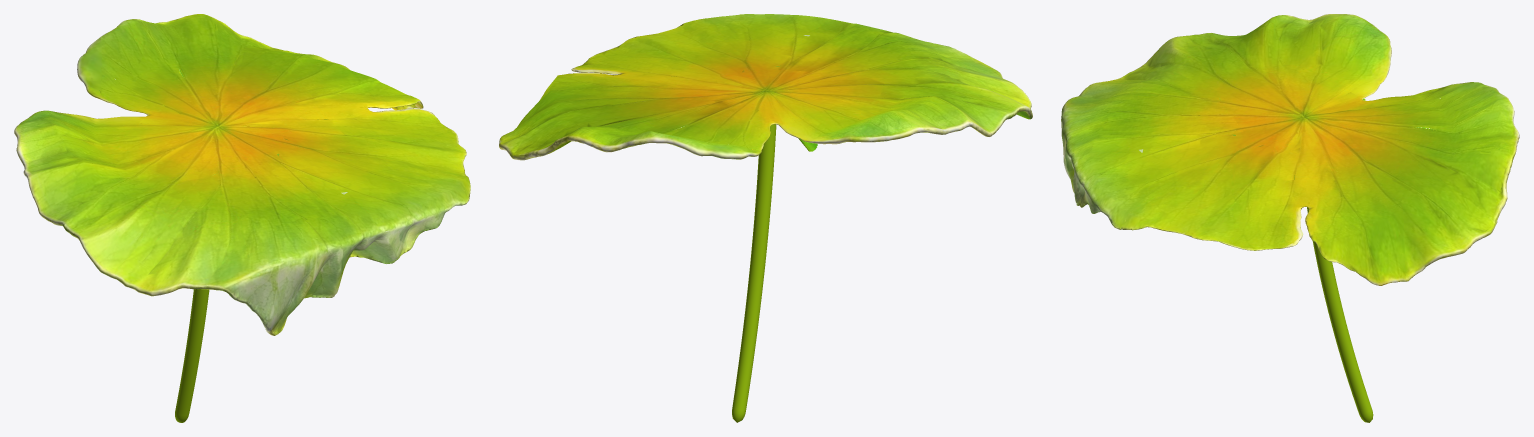
The picture shows the model from 3 angles, left to right: view 1: azimuth 30°, elevation 25°; view 2: azimuth 150°, elevation 25°; view 3: azimuth 270°, elevation 25°; orthographic projection. The views are drawn at different scales.
Visible parts, largest first — view 1: leaf; view 2: leaf; view 3: leaf.
Boxes of the visible parts, <box> form: leaf: <box>14,14,470,422</box>; leaf: <box>499,14,1032,422</box>; leaf: <box>1061,14,1519,422</box>.
Bounding box in the file's own units: 2.61 × 2.02 × 2.52.
Materials: 1 (1 with a texture image).
